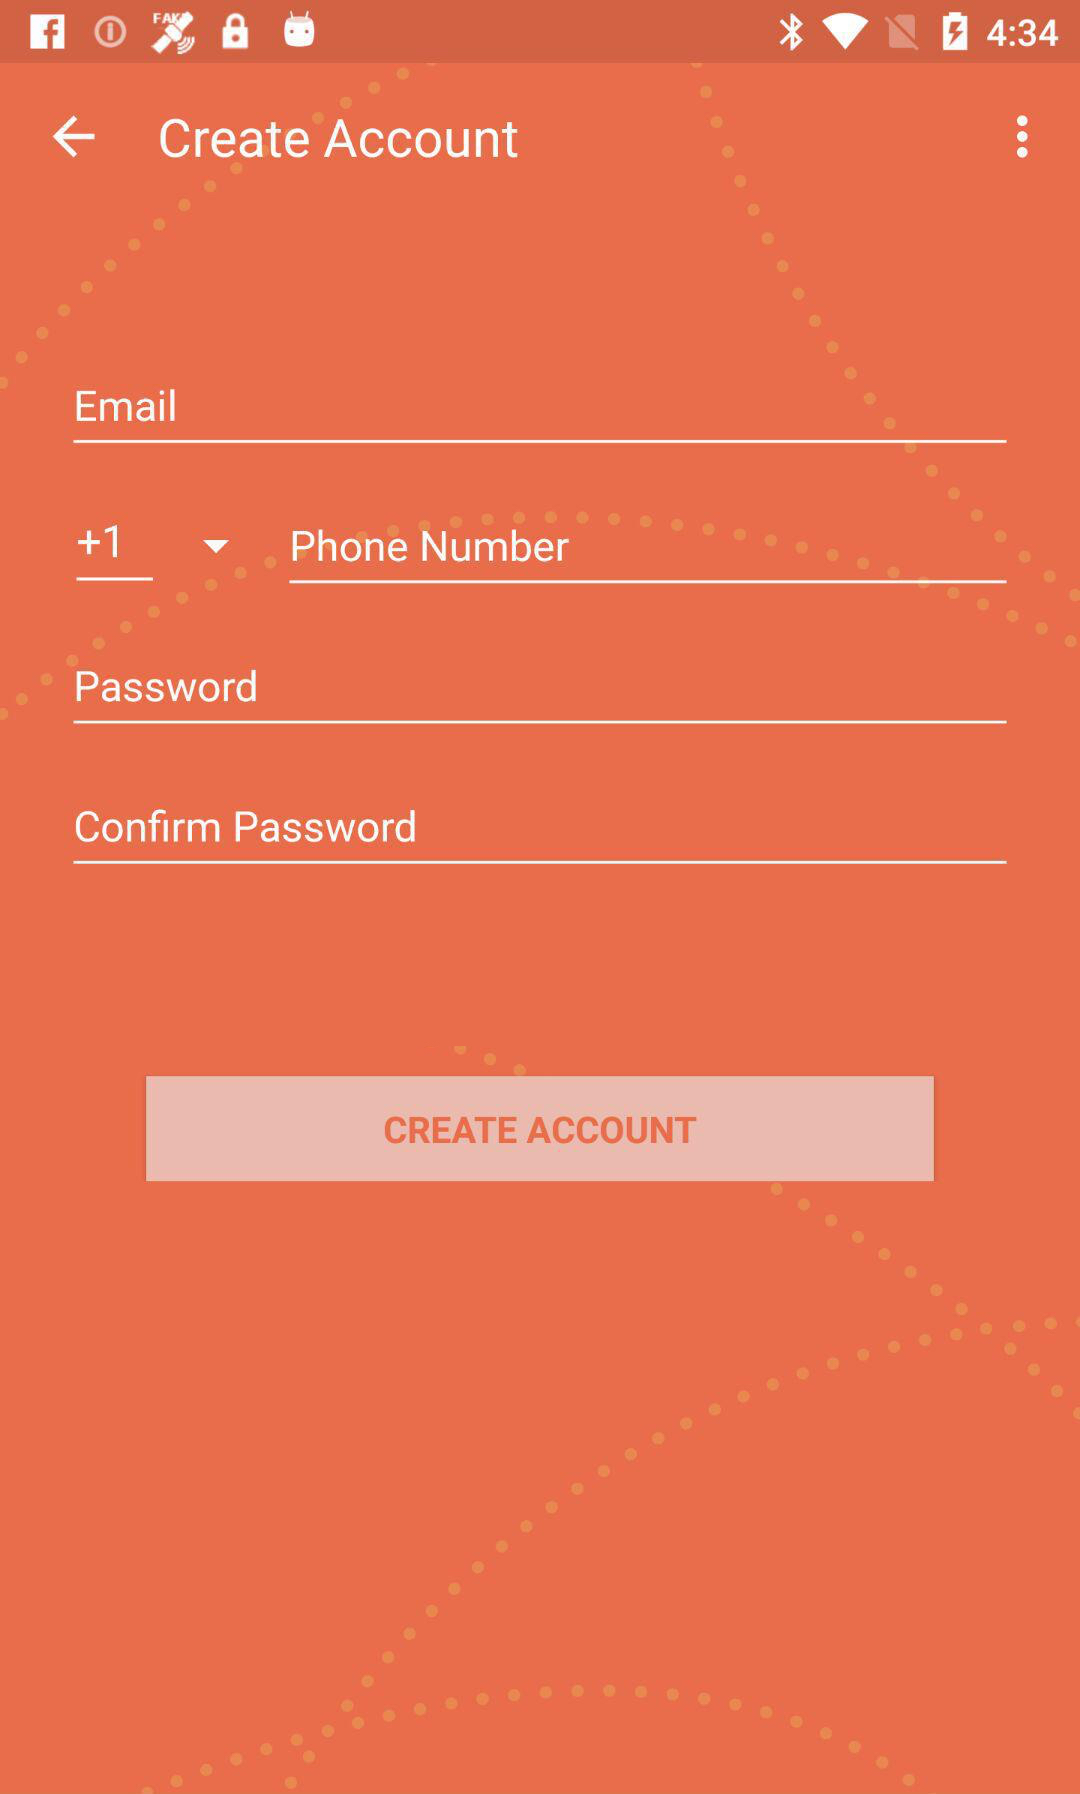EditText: (73, 388, 1008, 445), (73, 809, 1008, 865), (73, 669, 1007, 725), (290, 529, 1008, 586), (76, 524, 155, 583)
Icon: (53, 115, 97, 160), (1015, 115, 1029, 161), (201, 539, 232, 555)
Text: (159, 117, 520, 161), (76, 809, 416, 843), (292, 529, 570, 564), (76, 670, 258, 704), (76, 390, 176, 423), (78, 524, 120, 560)
TextButton: (146, 1076, 935, 1181)
UpperTaskBar: (1, 1, 1080, 64)
